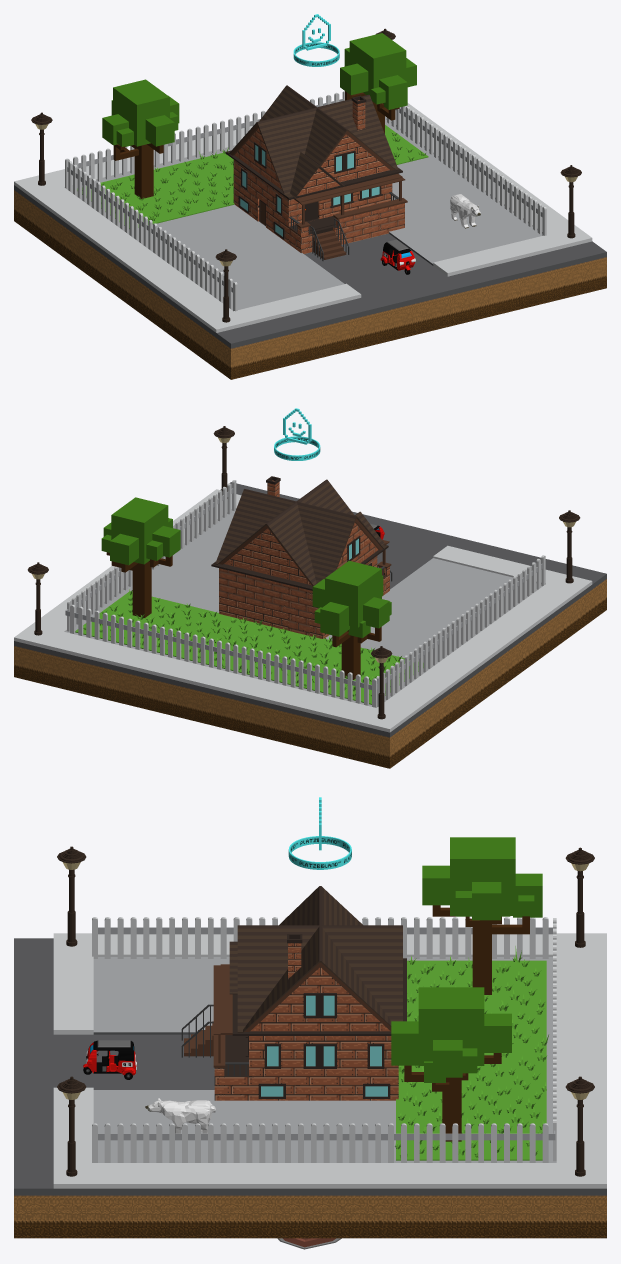
3 views of the same model, one above another, from view 1: azimuth 30°, elevation 25°; view 2: azimuth 150°, elevation 25°; view 3: azimuth 270°, elevation 25° (orthographic). The views are drawn at different scales.
Visible parts, largest first — view 1: Cube.004, Cube.469, TYPE_PREMIUM, VEHICLES_TUC_TUC, ANIMAL_OSO_POLAR; view 2: Cube.004, Cube.469, TYPE_PREMIUM; view 3: Cube.004, Cube.469, VEHICLES_TUC_TUC, ANIMAL_OSO_POLAR, TYPE_PREMIUM.
Part boxes in pixels (<box>): Cube.004: <box>14,28,606,379</box>; Cube.469: <box>225,85,407,261</box>; TYPE_PREMIUM: <box>293,14,339,66</box>; VEHICLES_TUC_TUC: <box>380,239,415,274</box>; ANIMAL_OSO_POLAR: <box>450,194,480,228</box>; Cube.004: <box>14,426,606,768</box>; Cube.469: <box>211,476,392,638</box>; TYPE_PREMIUM: <box>274,408,320,460</box>; Cube.004: <box>14,837,606,1238</box>; Cube.469: <box>181,886,406,1100</box>; VEHICLES_TUC_TUC: <box>83,1040,136,1079</box>; ANIMAL_OSO_POLAR: <box>145,1098,215,1133</box>; TYPE_PREMIUM: <box>288,797,351,869</box>.
Bounding box in the file's own units: 4000 × 3183 × 4000.
36 materials, 5 textured.
